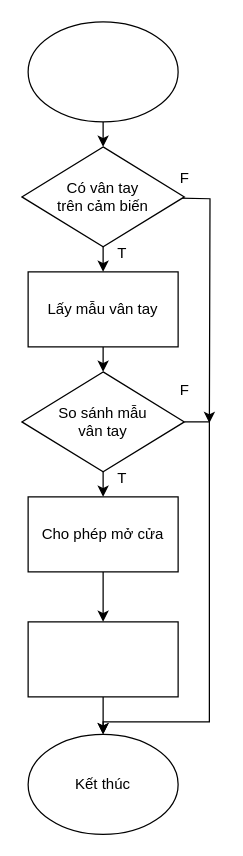
This 243x856 diagram has some shape labels left out. The centre of each missing label's shape, as x and y in pixels:
"Bắt đầu" belongs at point 102,71.
"Lưu lịch sử" belongs at point 102,659.
